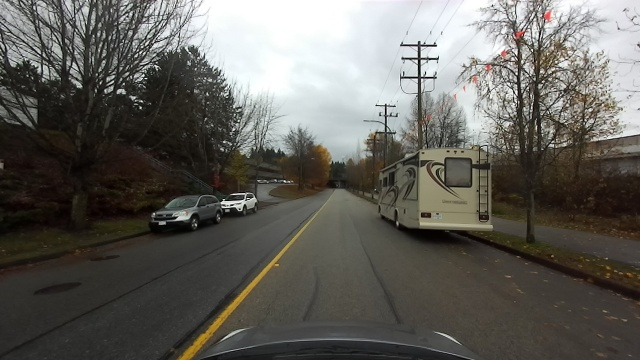car: (373, 142, 498, 243), (145, 193, 223, 234), (222, 189, 261, 216), (255, 178, 270, 184), (269, 178, 278, 184), (278, 178, 285, 185), (287, 180, 291, 183)
